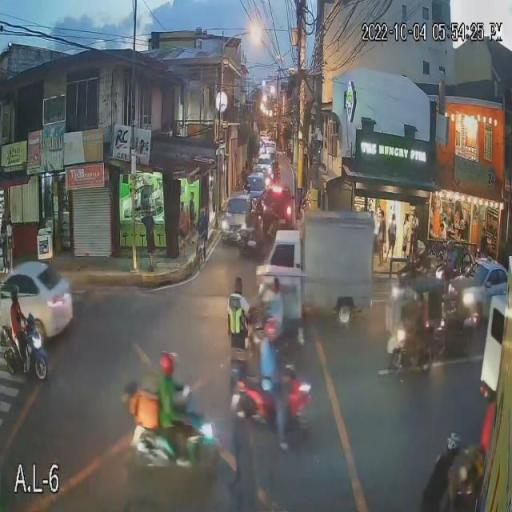helmet: (264, 317, 282, 340), (160, 353, 174, 372), (9, 285, 22, 301)
motorcycle: (128, 400, 217, 469), (228, 368, 314, 434), (384, 320, 443, 386), (0, 313, 51, 383)
rider: (257, 318, 295, 452), (389, 272, 428, 359), (155, 353, 193, 441), (125, 382, 164, 459), (8, 285, 34, 364)
